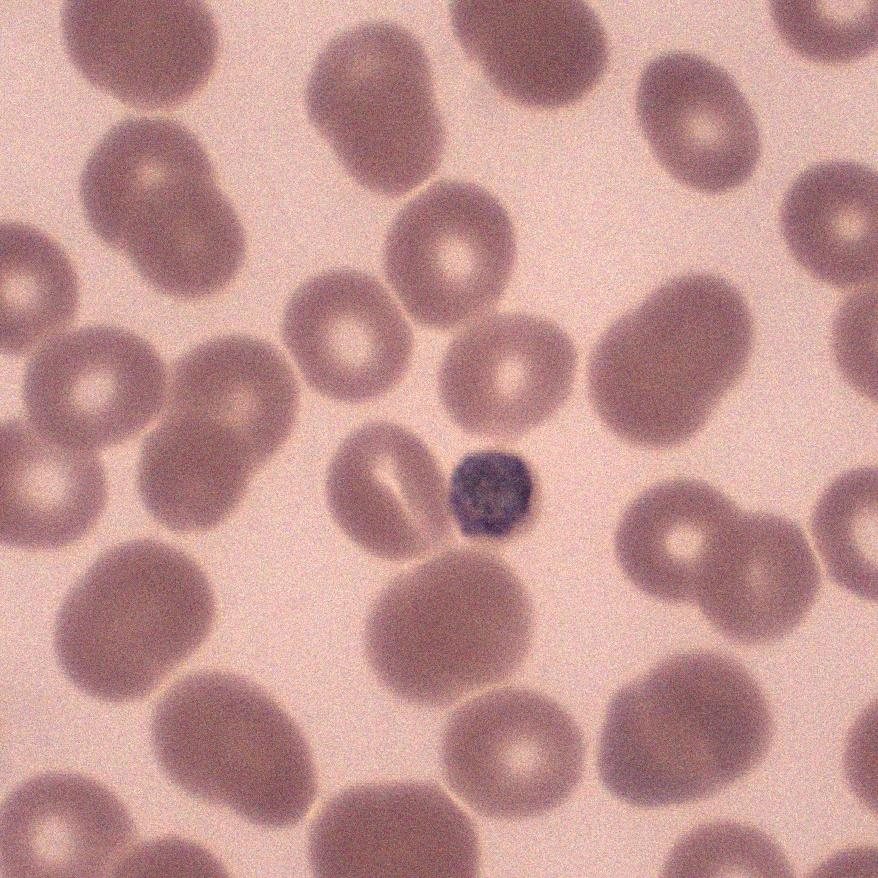Infected: (451, 447, 543, 540)
Uninfected: (590, 276, 752, 445), (323, 413, 453, 566), (280, 261, 417, 405), (640, 648, 772, 791), (52, 1, 225, 106), (635, 48, 762, 191), (385, 186, 515, 323), (435, 686, 575, 813), (77, 121, 212, 251), (687, 506, 812, 645), (15, 326, 162, 443), (303, 781, 478, 878), (460, 0, 610, 108), (167, 336, 297, 460), (437, 318, 572, 436), (408, 551, 520, 681), (78, 538, 203, 651), (613, 476, 733, 593), (152, 663, 260, 791), (0, 418, 112, 541), (600, 678, 712, 800), (120, 181, 237, 294), (215, 691, 313, 825), (300, 18, 427, 121), (335, 78, 447, 193), (50, 591, 163, 701), (365, 581, 463, 706), (780, 151, 877, 276), (140, 418, 247, 528), (0, 221, 68, 346)
